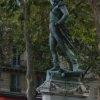Statue: (40, 5, 87, 84)
